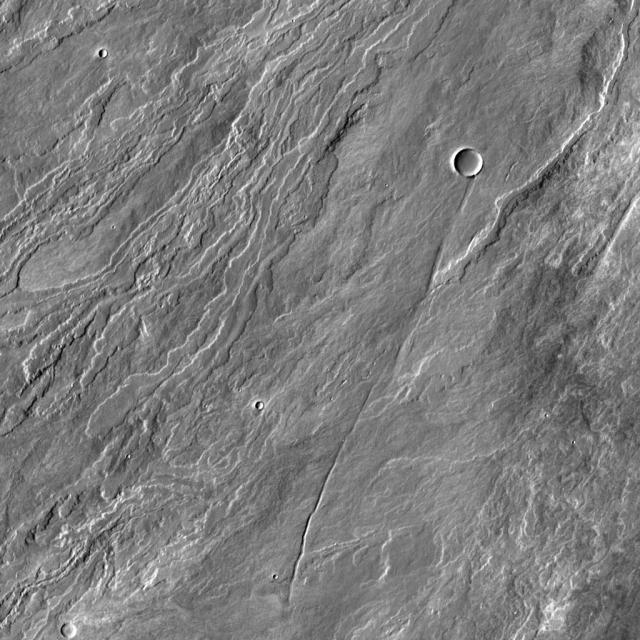crater: (457, 150, 485, 178), (64, 624, 80, 640), (102, 51, 112, 60), (253, 396, 260, 403)
